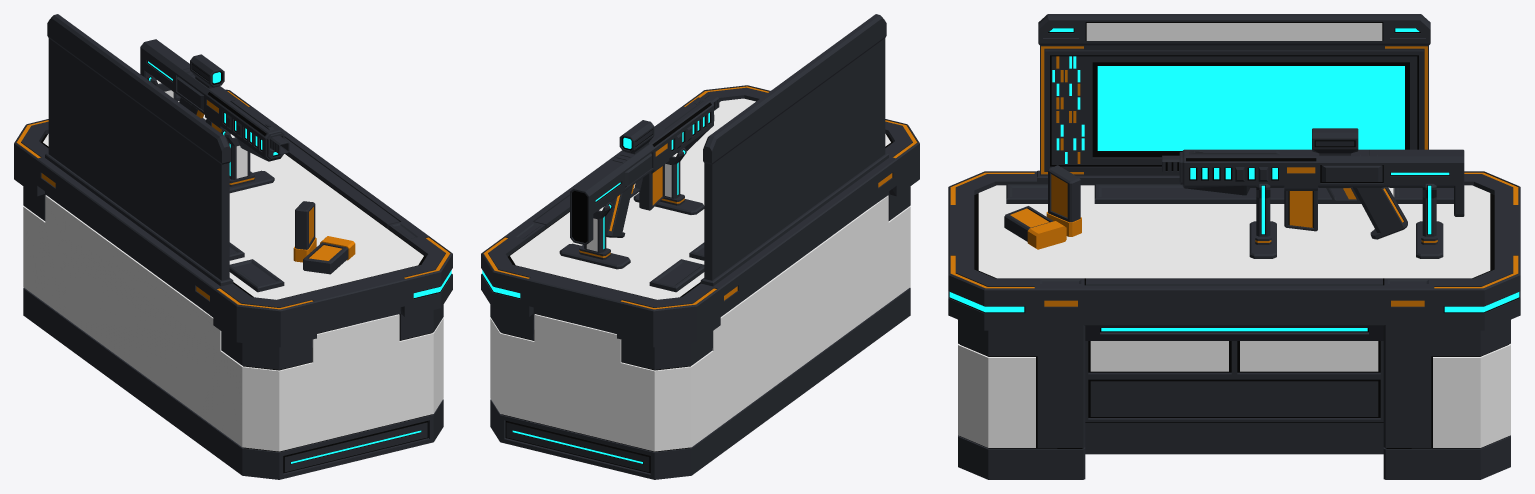
File: SM_WeaponWorkbench.fbx
The picture shows the model from 3 angles, left to right: view 1: azimuth 30°, elevation 25°; view 2: azimuth 150°, elevation 25°; view 3: azimuth 270°, elevation 25°; orthographic projection. The views are drawn at different scales.
Visible parts, largest first — view 1: SM_WeaponWorkbench; view 2: SM_WeaponWorkbench; view 3: SM_WeaponWorkbench.
Part boxes in pixels (box(x1,y1,x2,y2)): SM_WeaponWorkbench: box(14, 14, 452, 479); SM_WeaponWorkbench: box(481, 14, 919, 479); SM_WeaponWorkbench: box(948, 14, 1520, 479).
Size of the model in its own units: 91.31 by 129 by 186.
